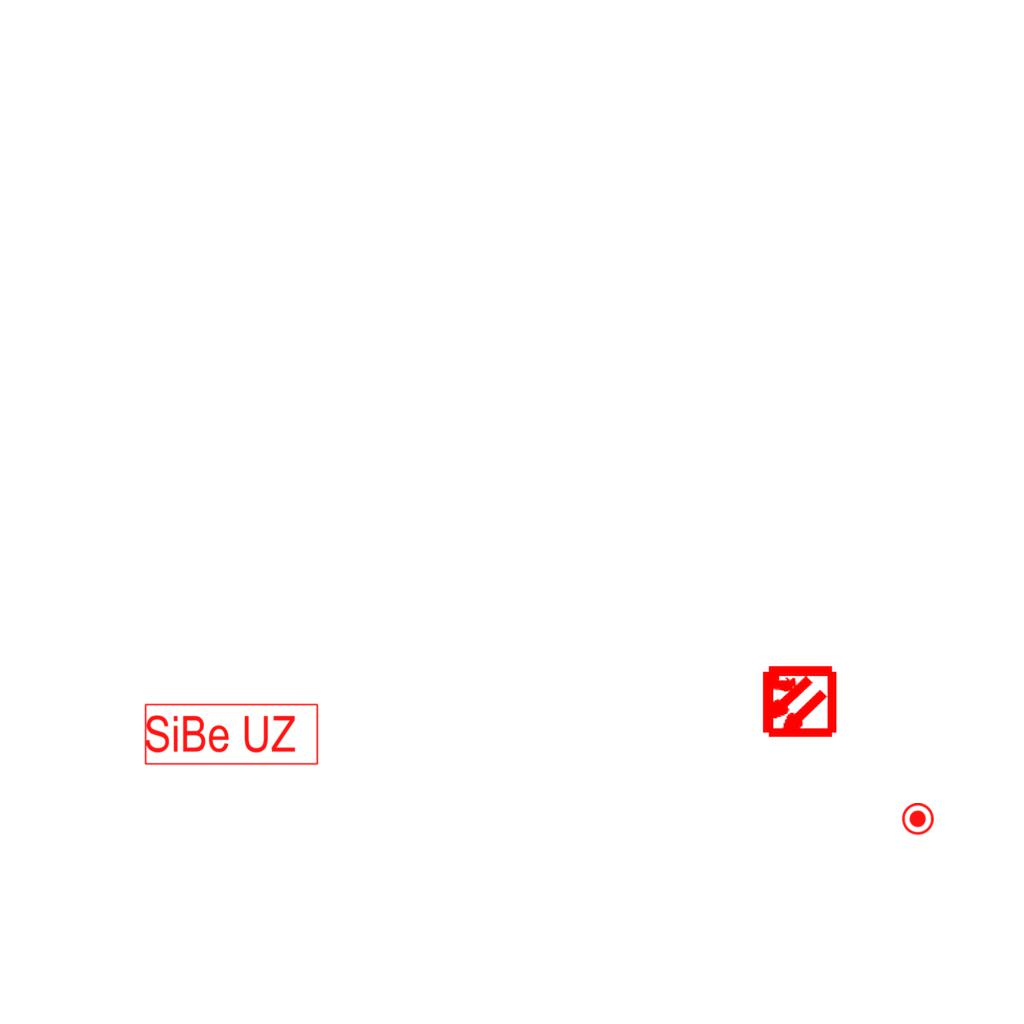OT_Multisensormelder_(Kombination_RMO_WMD): (741, 645, 854, 758)
Taster: (901, 803, 934, 836)
Zentrale_Sicherheitsbeleuchtung: (143, 702, 321, 767)
